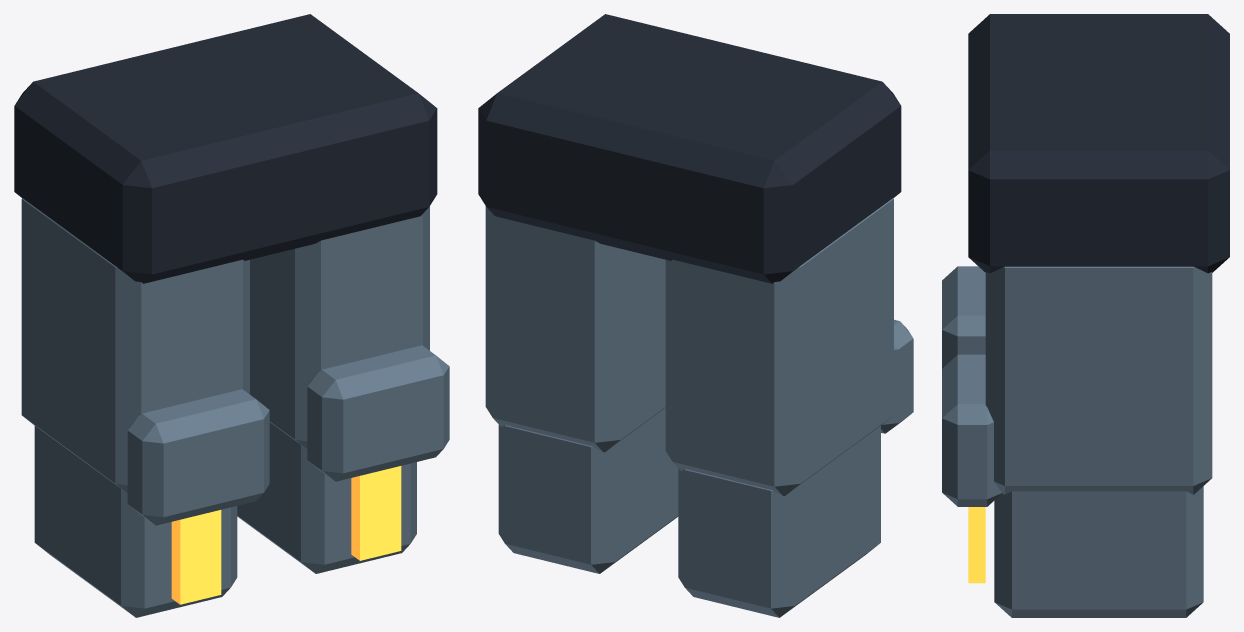
File: SM_NPC_Legs_002_Armor.glb
3 renders of one model, left to right at view 1: azimuth 30°, elevation 25°; view 2: azimuth 150°, elevation 25°; view 3: azimuth 270°, elevation 25°, orthographic.
Visible parts, largest first — view 1: SM_NPC_Legs_002_Armor; view 2: SM_NPC_Legs_002_Armor; view 3: SM_NPC_Legs_002_Armor.
Boxes of the visible parts, left/top/right/bottom form: SM_NPC_Legs_002_Armor: left=14, top=14, right=449, bottom=617; SM_NPC_Legs_002_Armor: left=478, top=14, right=913, bottom=617; SM_NPC_Legs_002_Armor: left=942, top=14, right=1229, bottom=617.
Bounding box in the file's own units: 0.42 × 0.595 × 0.33.
